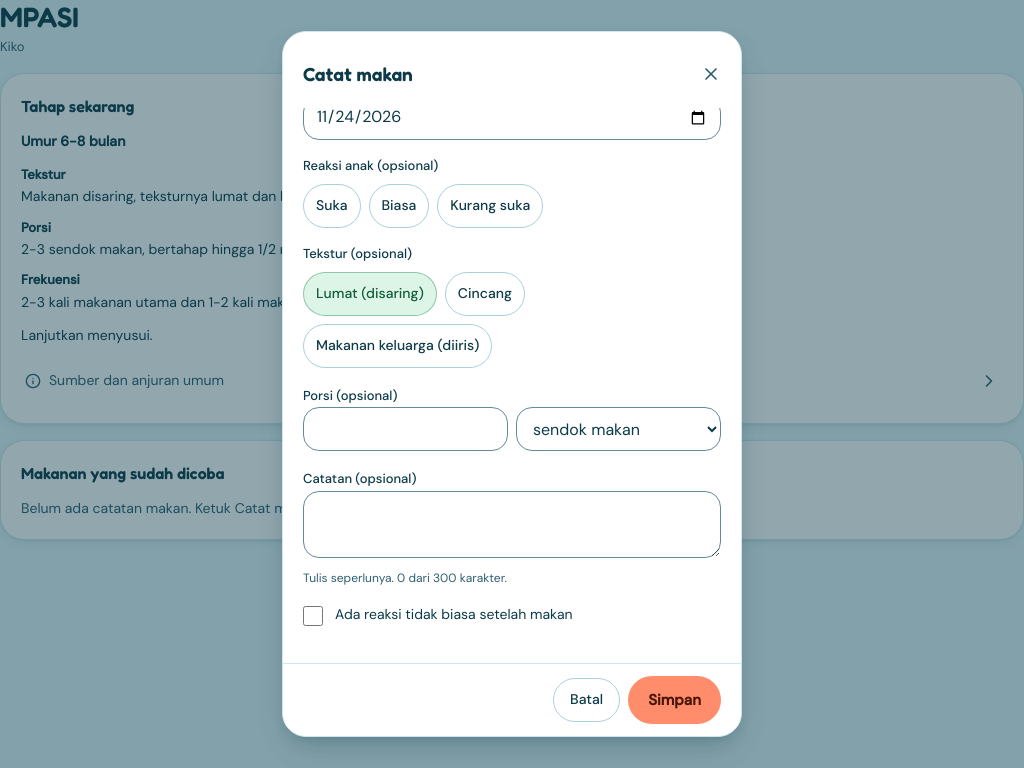
it: Catat makan › ada reaksi tidak biasa: arahan ke tenaga kesehatan, tanda bahaya dari sumber, tautan 119; tanpa diagnosis
The image size is (1024, 768).
(page scrolled)
Click the checkbox labelled "Ada reaksi tidak biasa setelah makan" at [313, 616], box [303,606,323,626]
(page scrolled)
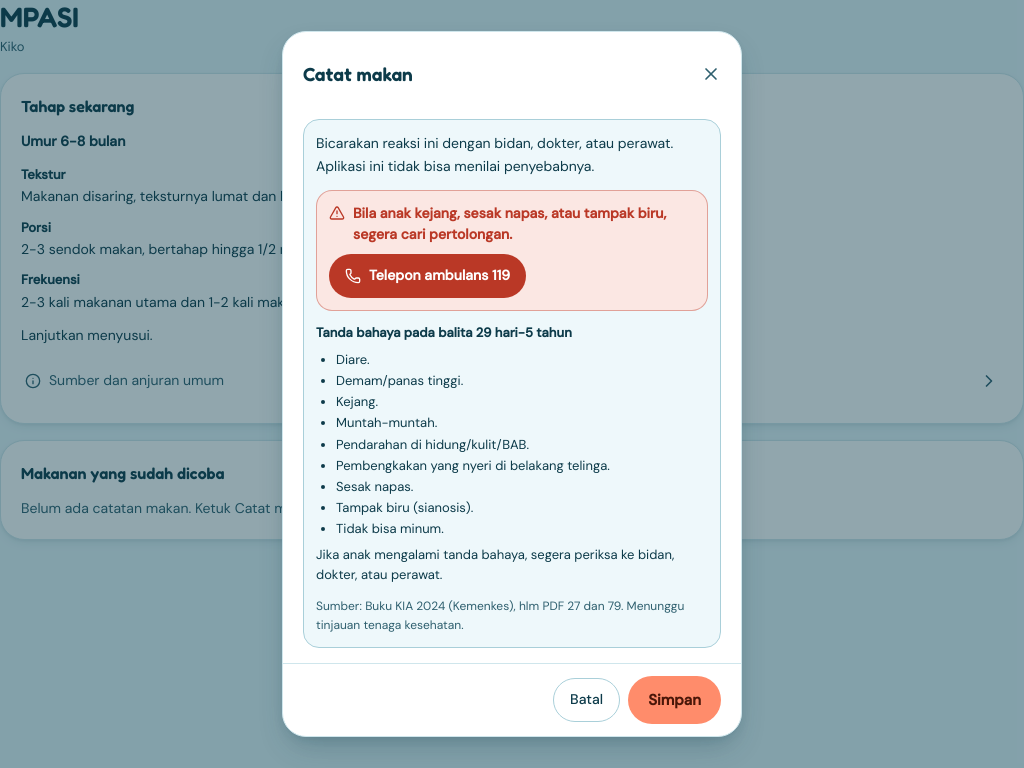
Check: the element named "Panduan reaksi tidak biasa" shows "bidan, dokter, atau perawat", box [316,134,673,175]
Check: the list item "Sesak napas." is shown, box [336,478,413,495]
